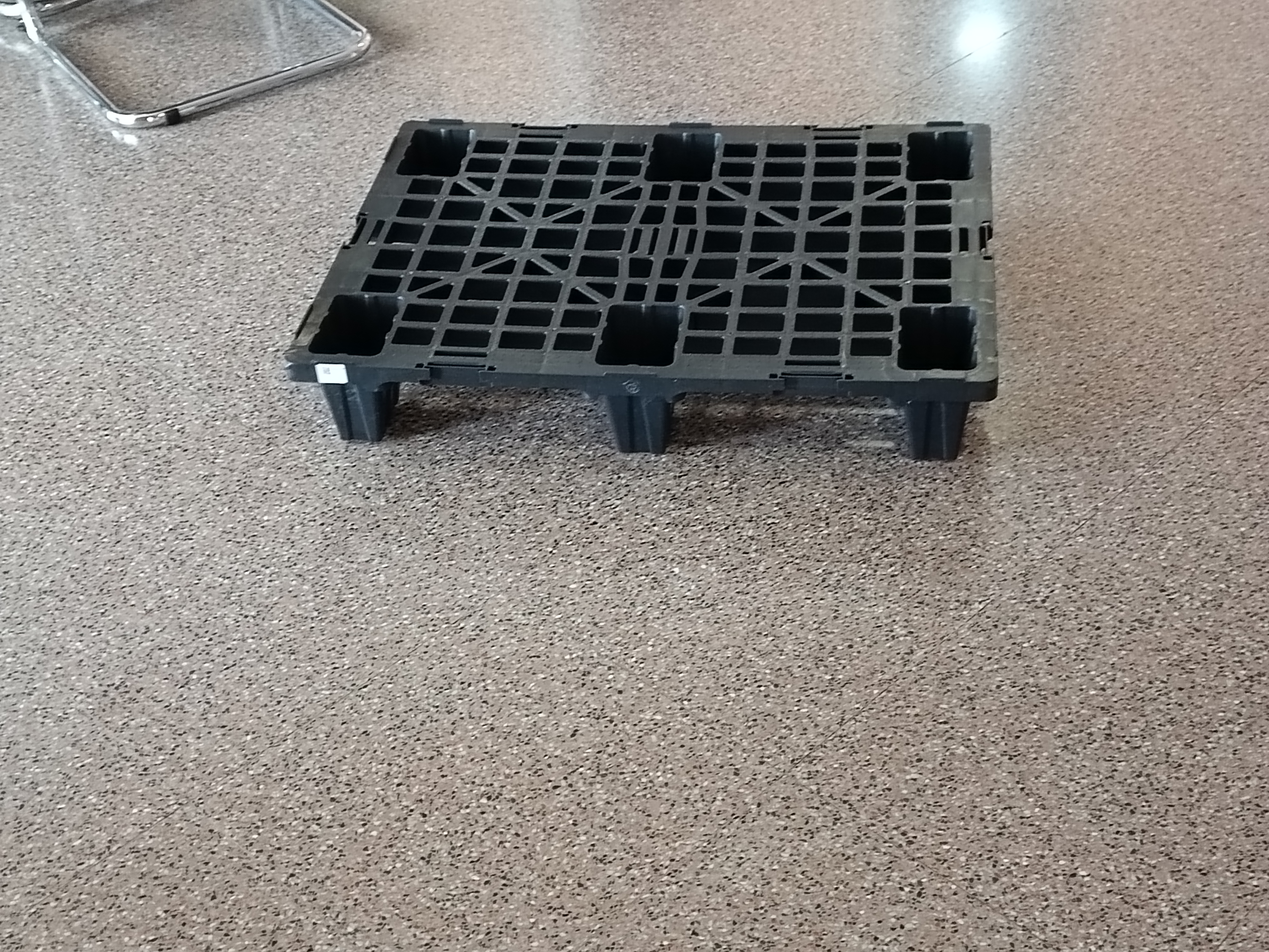block: (885, 378, 995, 463), (298, 359, 387, 443), (596, 374, 685, 457)
front: (301, 362, 1001, 458)
hole pallet: (374, 381, 618, 449), (661, 395, 910, 461)
